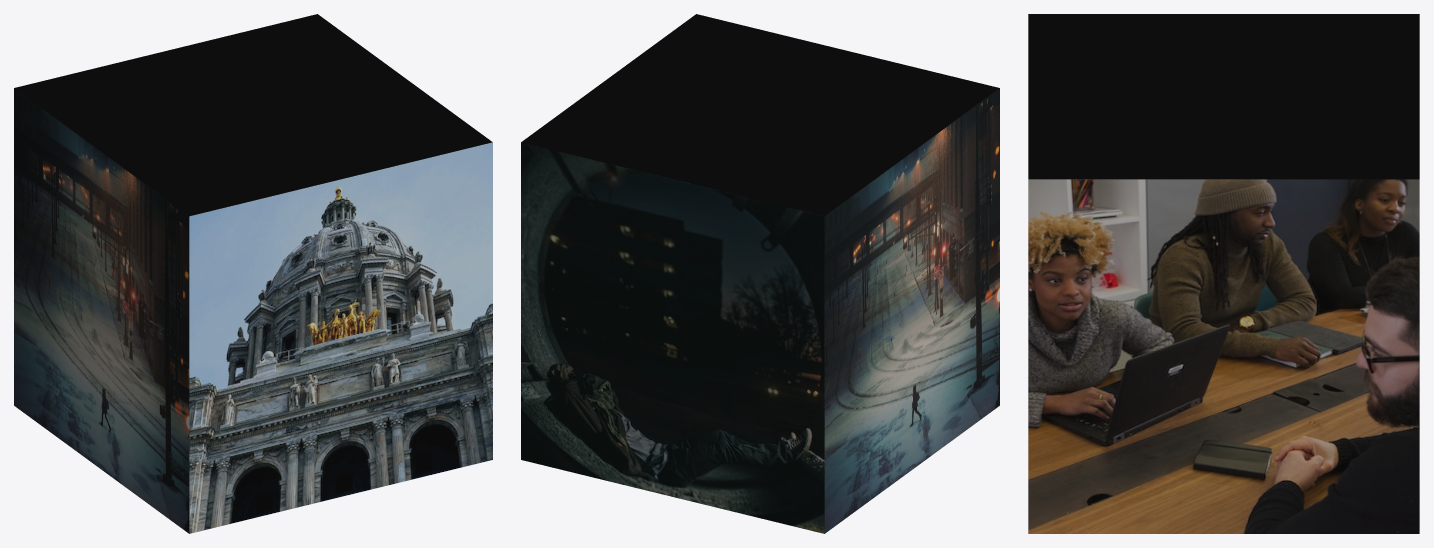
File: yabcube.glb
3 views of the same model, side by side, from view 1: azimuth 30°, elevation 25°; view 2: azimuth 150°, elevation 25°; view 3: azimuth 270°, elevation 25° (orthographic). The views are drawn at different scales.
Visible parts, largest first — view 1: Cube; view 2: Cube; view 3: Cube.
Part boxes in pixels (x1,y1,x2,y2): Cube: (14, 14, 492, 533); Cube: (521, 14, 999, 533); Cube: (1028, 14, 1419, 533).
Bounding box in the file's own units: 2 × 2 × 2.
5 materials, 4 textured.
